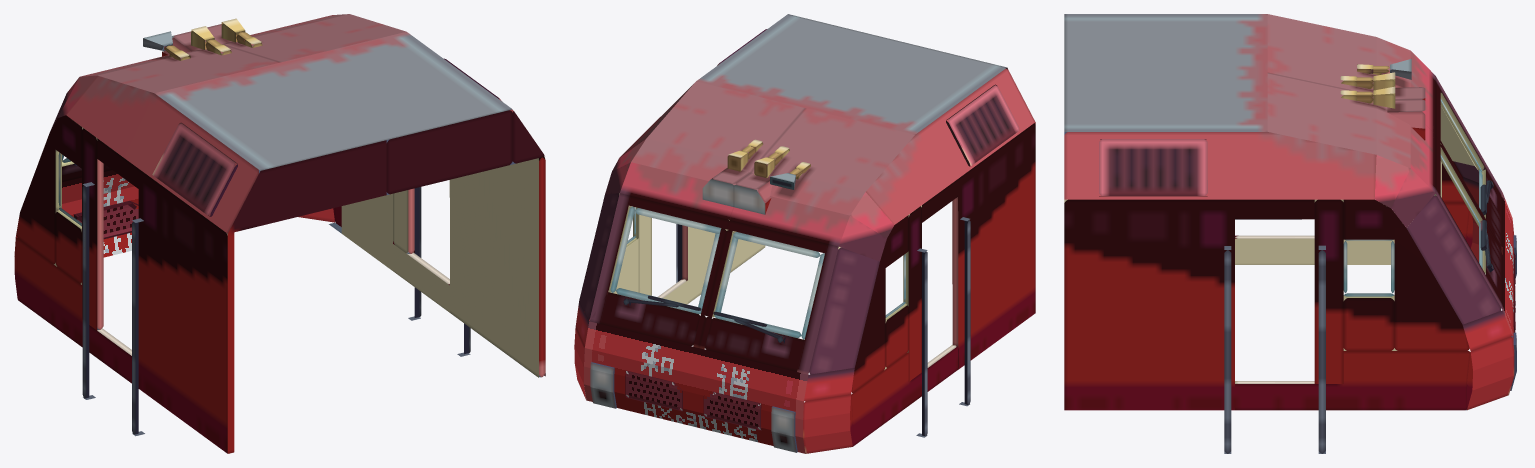
File: hxd3d_head.obj
3 views of the same model, side by side, from view 1: azimuth 30°, elevation 25°; view 2: azimuth 150°, elevation 25°; view 3: azimuth 270°, elevation 25° (orthographic). The views are drawn at different scales.
Parts seen in each view (by area): view 1: cube_selection_selection; view 2: cube_selection_selection; view 3: cube_selection_selection.
Boxes of the visible parts, x1,y1,x2,y2 form: cube_selection_selection: (14,14,545,453); cube_selection_selection: (574,14,1035,453); cube_selection_selection: (1064,14,1516,453).
Bounding box in the file's own units: 3.19 × 2.88 × 3.93.
